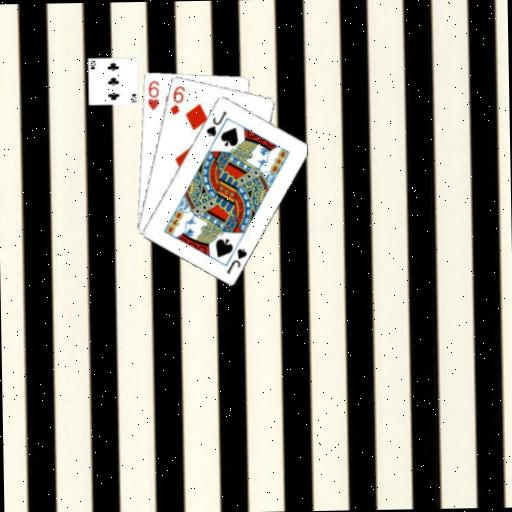6D: (166, 83, 187, 117)
6H: (144, 78, 160, 112)
JS: (222, 245, 249, 275), (202, 108, 228, 138)
